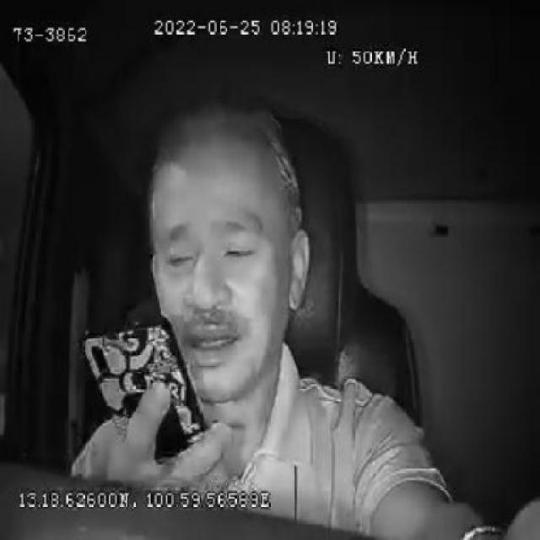phone: (82, 313, 210, 456)
